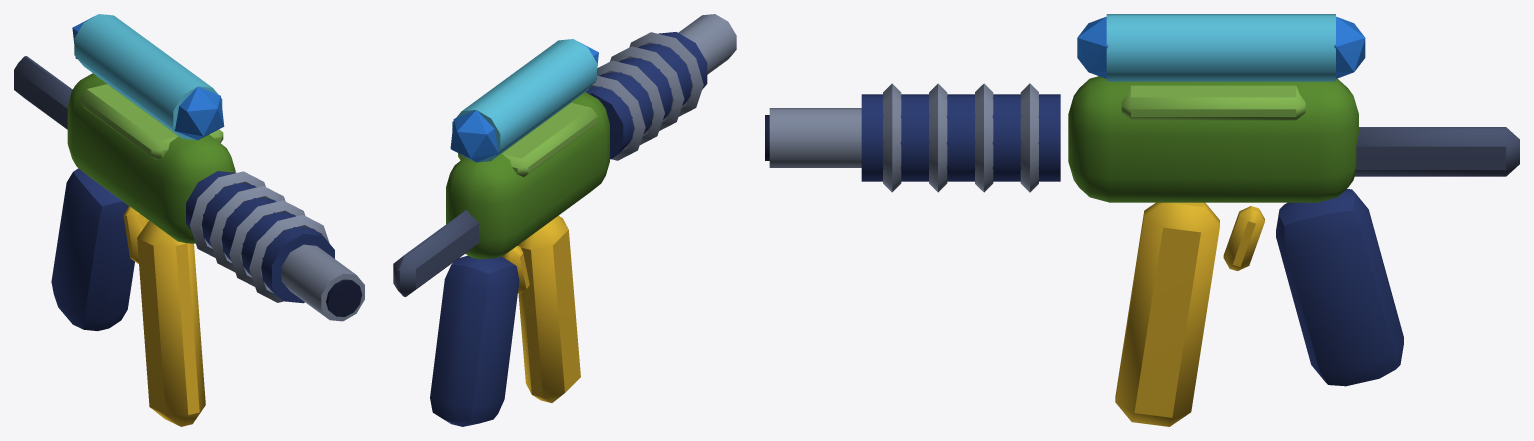
File: w_j_smg.glb
The picture shows the model from 3 angles, left to right: view 1: azimuth 30°, elevation 25°; view 2: azimuth 150°, elevation 25°; view 3: azimuth 270°, elevation 25°; orthographic projection. The views are drawn at different scales.
Visible parts, largest first — view 1: body; view 2: body; view 3: body.
Part boxes in pixels (x1=…): body: x1=14, y1=14, x2=364, y2=426; body: x1=393, y1=14, x2=736, y2=426; body: x1=765, y1=14, x2=1519, y2=426.
Size of the model in its own units: 0.1008 by 0.4108 by 0.6902.
